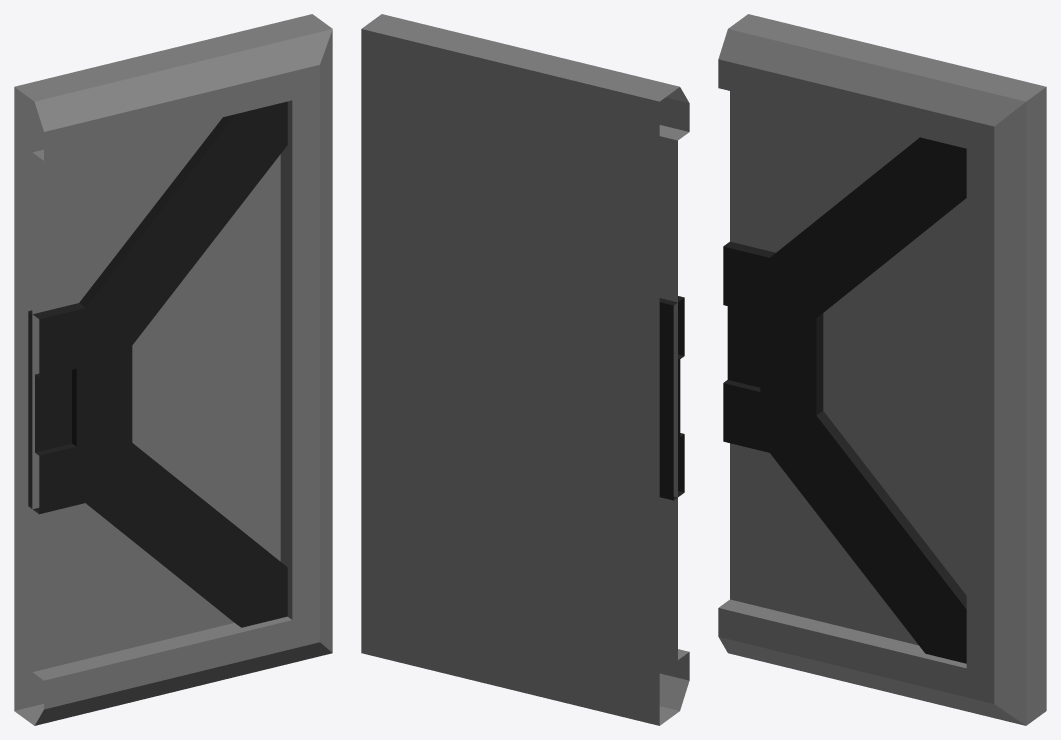
Rendered from JT_Door_R_Temp.fbx.
3 renders of one model, left to right at view 1: azimuth 30°, elevation 25°; view 2: azimuth 150°, elevation 25°; view 3: azimuth 330°, elevation 25°, orthographic.
Parts seen in each view (by area): view 1: JT_Door_R_Temp; view 2: JT_Door_R_Temp; view 3: JT_Door_R_Temp.
Boxes of the visible parts, x1=… form: JT_Door_R_Temp: x1=14, y1=14, x2=332, y2=725; JT_Door_R_Temp: x1=361, y1=14, x2=689, y2=725; JT_Door_R_Temp: x1=718, y1=14, x2=1046, y2=725.
Bounding box in the file's own units: 0.5 × 1 × 0.0868.
